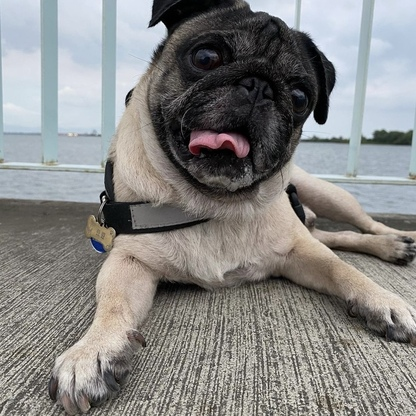Pug: (42, 1, 416, 416)
